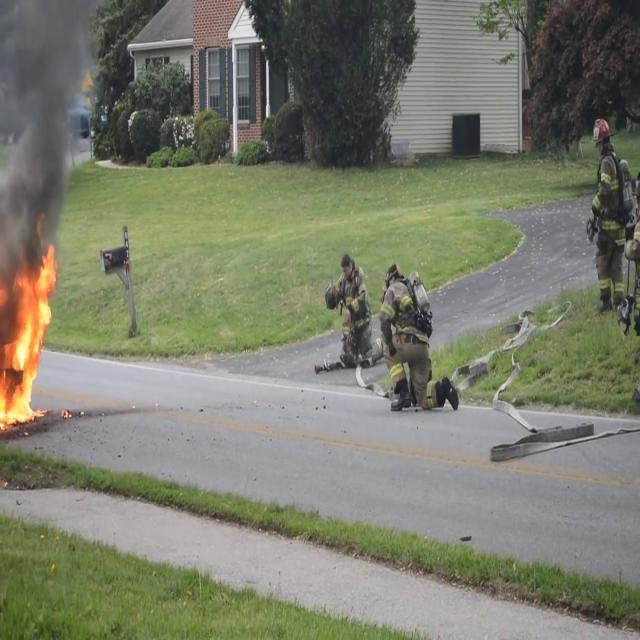Fire: (0, 244, 57, 428)
Smoke: (0, 1, 96, 271)
